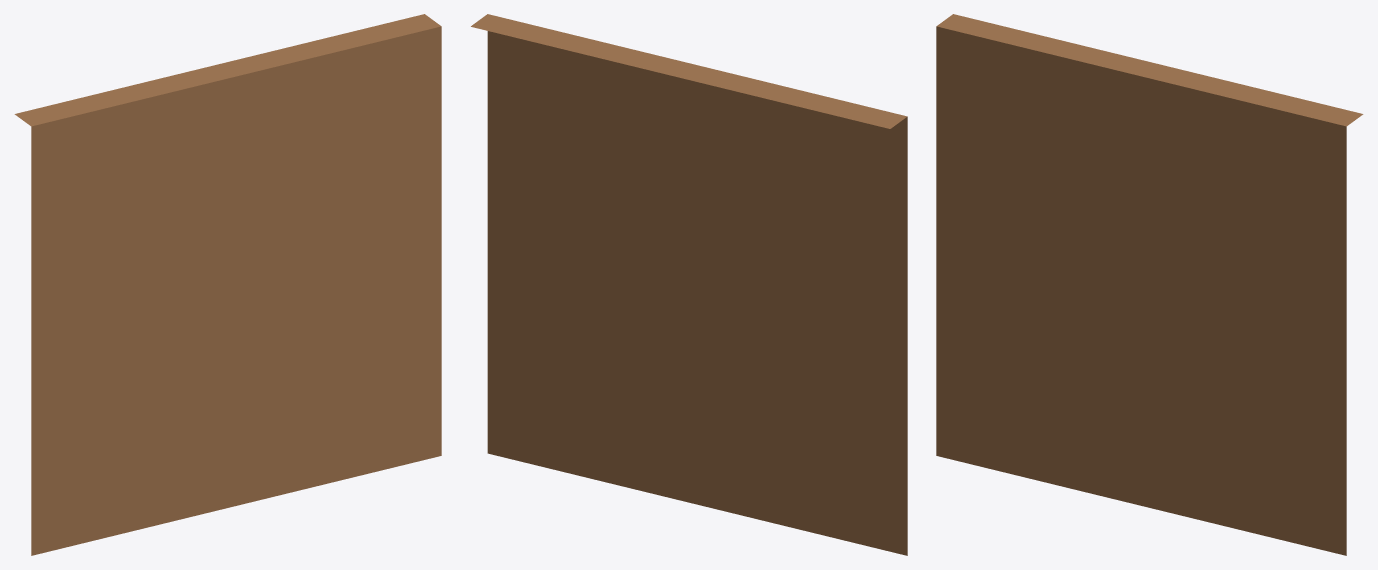
File: M_Wall350Brown100.fbx
The picture shows the model from 3 angles, left to right: view 1: azimuth 30°, elevation 25°; view 2: azimuth 150°, elevation 25°; view 3: azimuth 330°, elevation 25°; orthographic projection. The views are drawn at different scales.
Parts seen in each view (by area): view 1: M_Wall350Brown100; view 2: M_Wall350Brown100; view 3: M_Wall350Brown100.
Part boxes in pixels (box(x1,y1,x2,y2)): M_Wall350Brown100: box(14, 14, 441, 555); M_Wall350Brown100: box(471, 14, 907, 555); M_Wall350Brown100: box(936, 14, 1363, 555).
Bounding box in the file's own units: 350 × 25 × 350.
